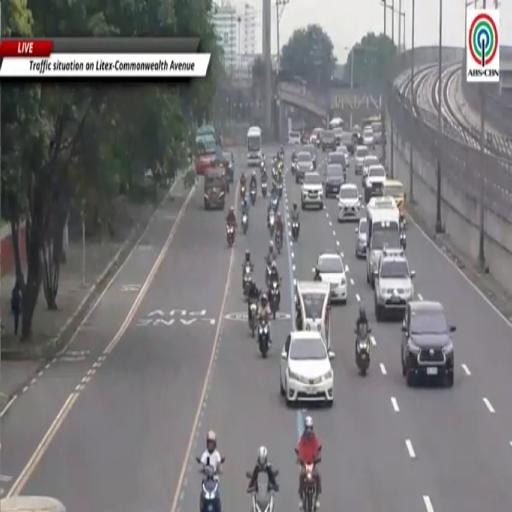bus: (366, 197, 402, 285), (247, 126, 262, 166), (362, 116, 381, 130)
car: (401, 300, 456, 387), (280, 331, 333, 406), (375, 249, 415, 322), (315, 252, 347, 303), (338, 184, 362, 221), (301, 172, 323, 210), (364, 165, 386, 202), (325, 164, 344, 198), (295, 152, 314, 183), (363, 155, 380, 185), (355, 218, 367, 258), (355, 146, 369, 174), (223, 151, 234, 183), (303, 144, 316, 169), (321, 131, 336, 152), (327, 152, 346, 168), (336, 146, 350, 167), (341, 133, 354, 154), (310, 127, 323, 146), (363, 126, 374, 147), (333, 127, 343, 146), (372, 122, 381, 143), (288, 131, 301, 145)
jeepney: (204, 166, 227, 210)
motorcycle: (196, 458, 221, 511), (299, 456, 320, 511), (355, 328, 371, 375), (252, 485, 274, 511), (258, 318, 269, 357), (269, 281, 280, 319), (248, 300, 257, 337), (243, 265, 252, 297), (227, 224, 235, 247), (268, 211, 275, 236), (275, 230, 282, 254), (270, 195, 280, 211), (265, 260, 271, 286), (292, 221, 299, 241), (242, 214, 248, 234), (250, 186, 256, 204), (400, 233, 406, 250), (400, 217, 407, 231), (261, 182, 267, 198), (240, 185, 246, 199), (291, 162, 297, 175), (277, 183, 282, 198), (261, 160, 266, 175), (343, 166, 347, 184), (279, 151, 284, 162)
